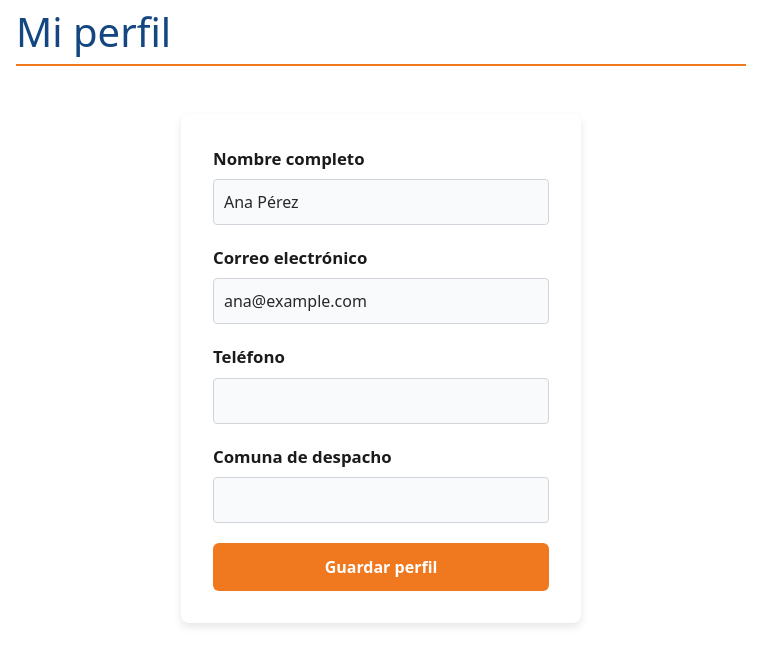
Test: actualiza datos de despacho en el perfil autenticado
Type "Maipú" into the field labelled "Comuna de despacho" at (381, 500), box [213,477,549,523]
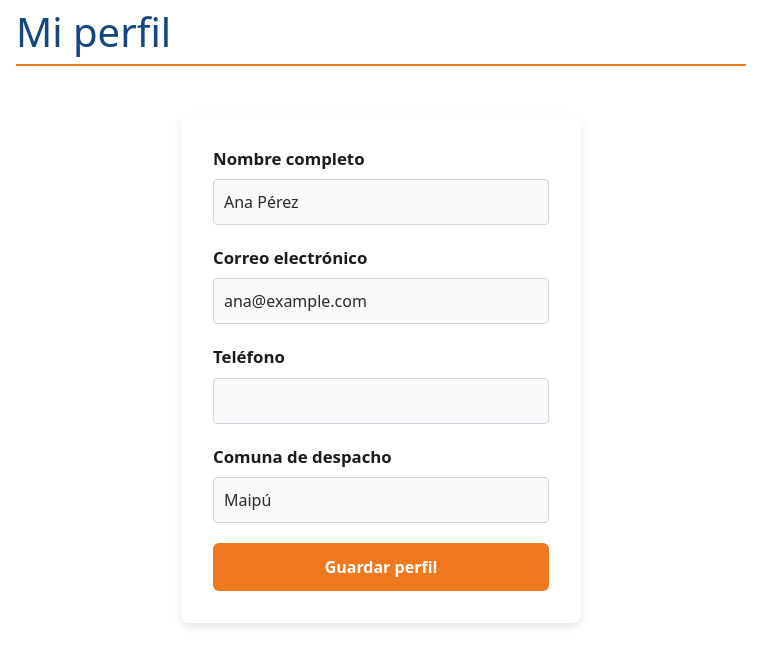
Click the button "Guardar perfil" at (381, 567), box [213,543,549,591]
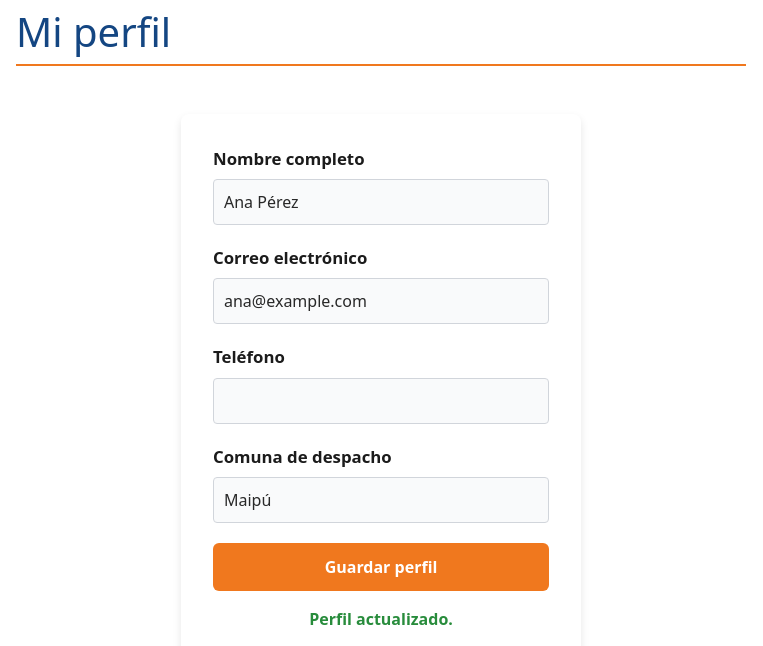
Expected: the message reads "Perfil actualizado.", [309,608,453,630]
